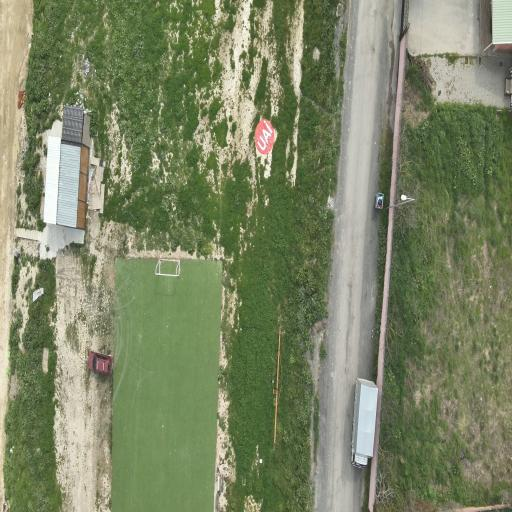UAI: (255, 119, 275, 155)
car: (352, 379, 377, 467), (89, 352, 113, 374)
